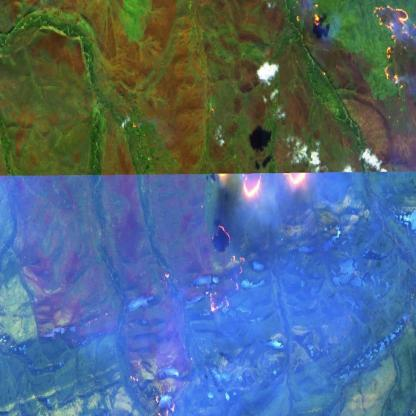fire: (126, 218, 245, 416), (366, 0, 415, 95), (209, 161, 313, 205), (288, 0, 324, 36)
